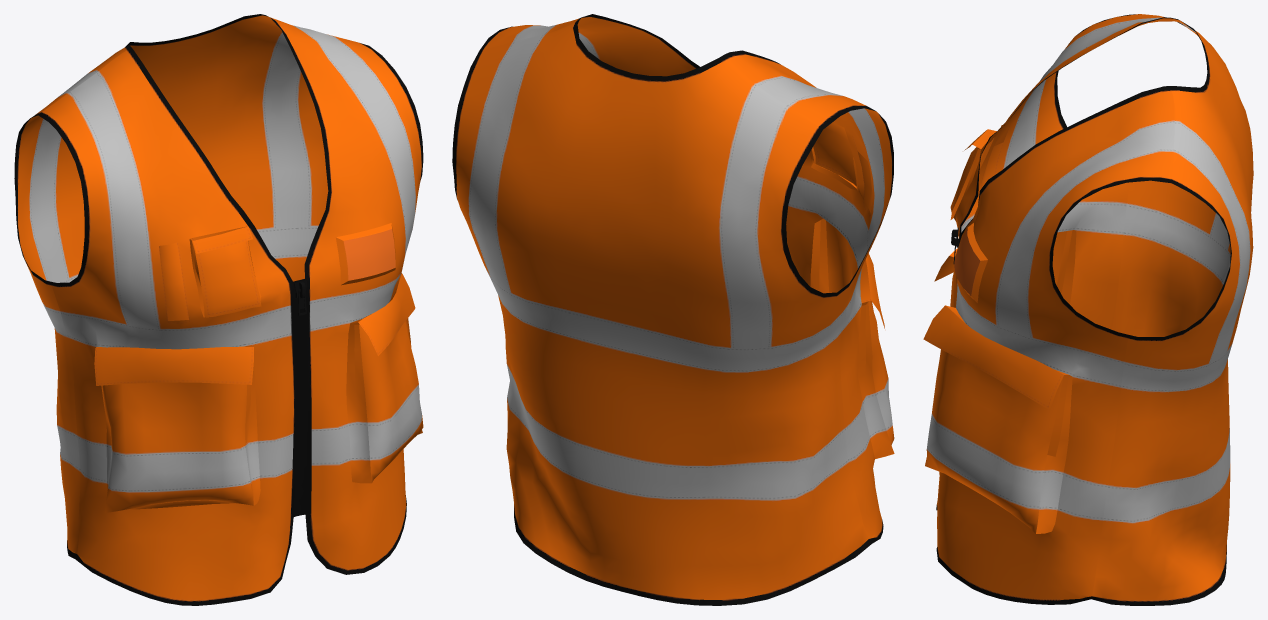
Rendered from Construction Vest Reflective.fbx.
3 views of the same model, side by side, from view 1: azimuth 30°, elevation 25°; view 2: azimuth 150°, elevation 25°; view 3: azimuth 270°, elevation 25° (orthographic). The views are drawn at different scales.
Parts seen in each view (by area): view 1: WorkerVest_Vest_0; view 2: WorkerVest_Vest_0; view 3: WorkerVest_Vest_0.
Boxes of the visible parts, x1,y1,x2,y2 form: WorkerVest_Vest_0: (14, 14, 423, 605); WorkerVest_Vest_0: (452, 14, 894, 605); WorkerVest_Vest_0: (923, 14, 1253, 605).
Bounding box in the file's own units: 38.19 × 53.17 × 31.39.
